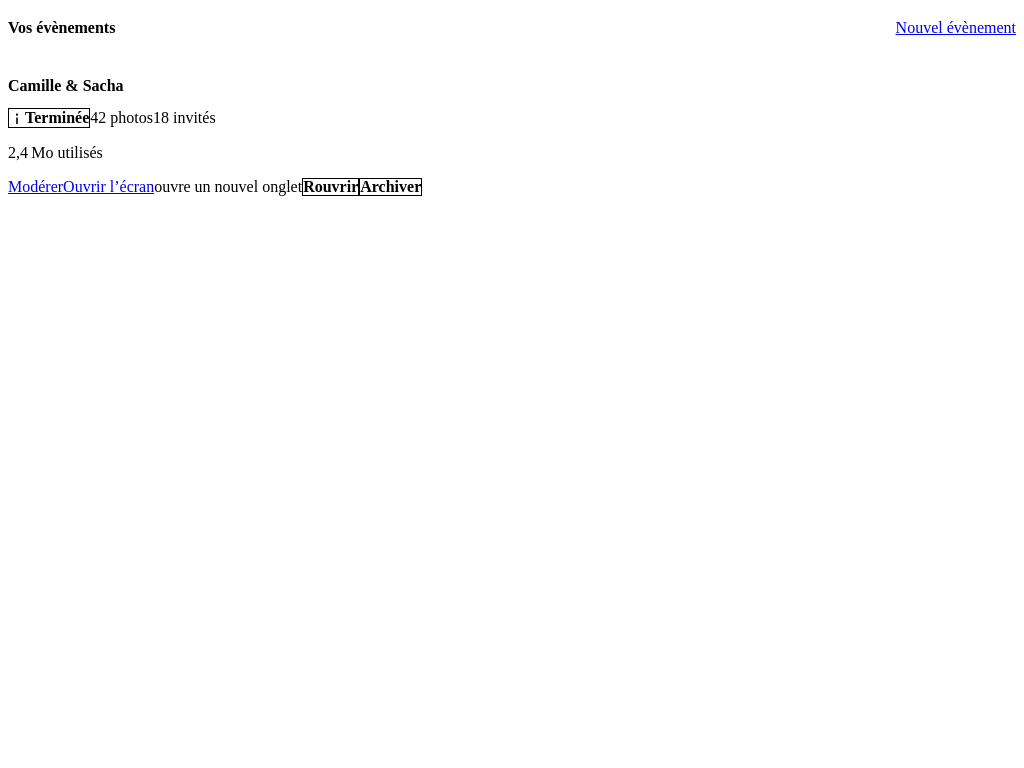
Test: DashboardPage › says what archiving stops before it archives, and only archives on the answer
The image size is (1024, 768).
Click the button "Archiver" at (391, 187), box [359,178,422,196]
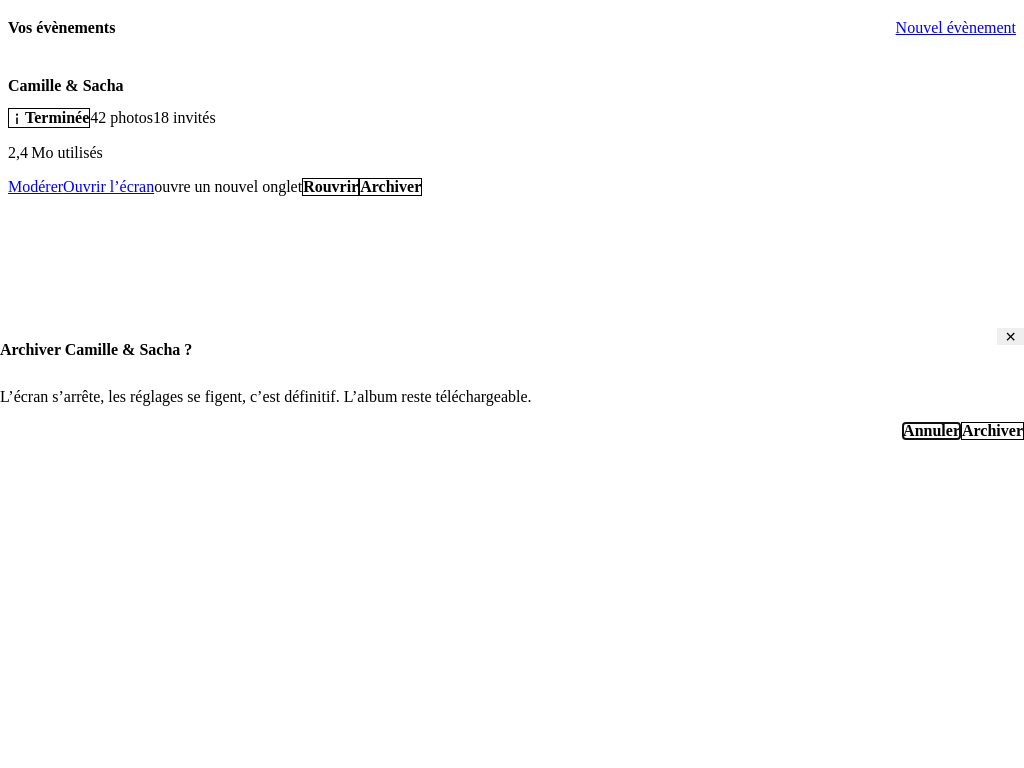
Click the button "Archiver" at (992, 431), box [961,422,1023,440]
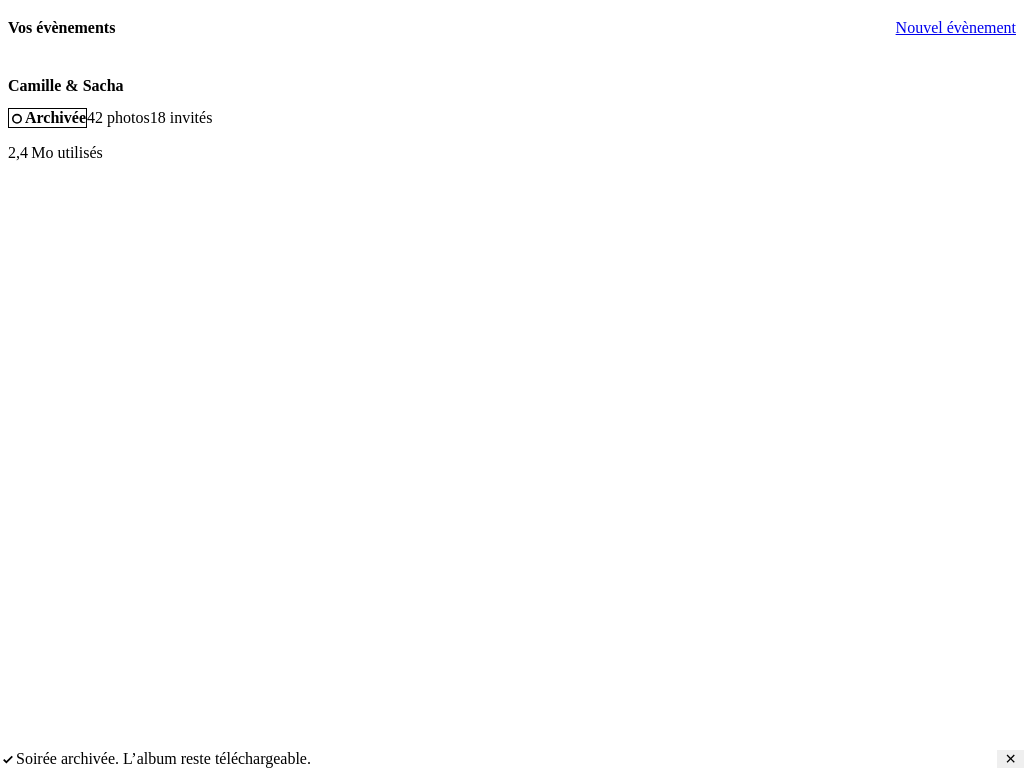
Check: the text "Soirée archivée. L’album reste téléchargeable." is shown, box [16,750,311,767]
